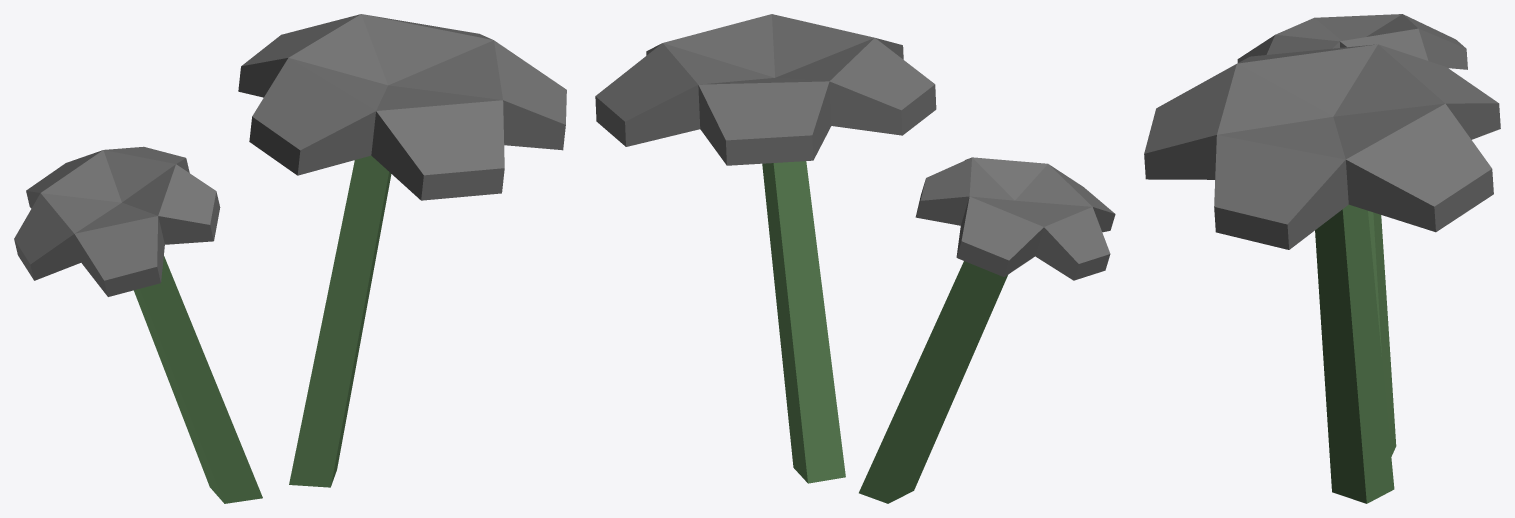
File: SM_Env_FlowerPatch_03.fbx
3 views of the same model, side by side, from view 1: azimuth 30°, elevation 25°; view 2: azimuth 150°, elevation 25°; view 3: azimuth 270°, elevation 25° (orthographic). The views are drawn at different scales.
Parts seen in each view (by area): view 1: SM_Env_FlowerPatch_03; view 2: SM_Env_FlowerPatch_03; view 3: SM_Env_FlowerPatch_03.
Part boxes in pixels (x1,y1,x2,y2): SM_Env_FlowerPatch_03: (14,14,566,503); SM_Env_FlowerPatch_03: (595,14,1115,503); SM_Env_FlowerPatch_03: (1144,14,1500,503).
Bounding box in the file's own units: 44.26 × 34.65 × 25.6.
